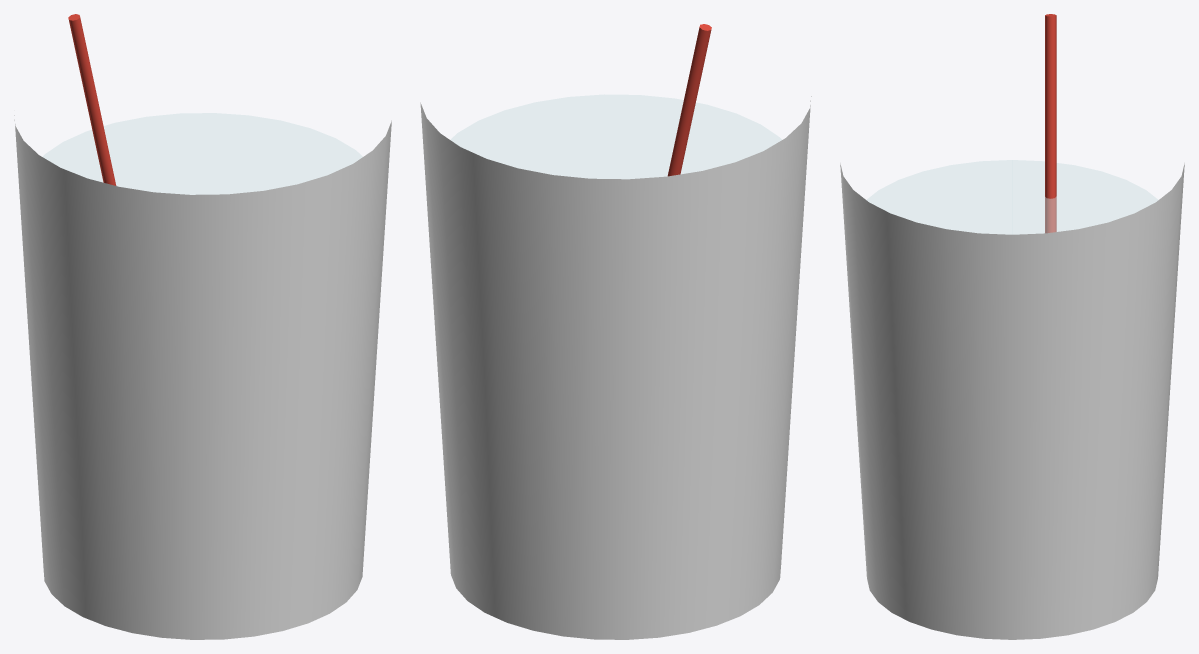
File: virgin-mojito.glb
3 renders of one model, left to right at view 1: azimuth 30°, elevation 25°; view 2: azimuth 150°, elevation 25°; view 3: azimuth 270°, elevation 25°, orthographic. The views are drawn at different scales.
Size of the model in its own units: 0.9 by 1.49 by 0.9.
